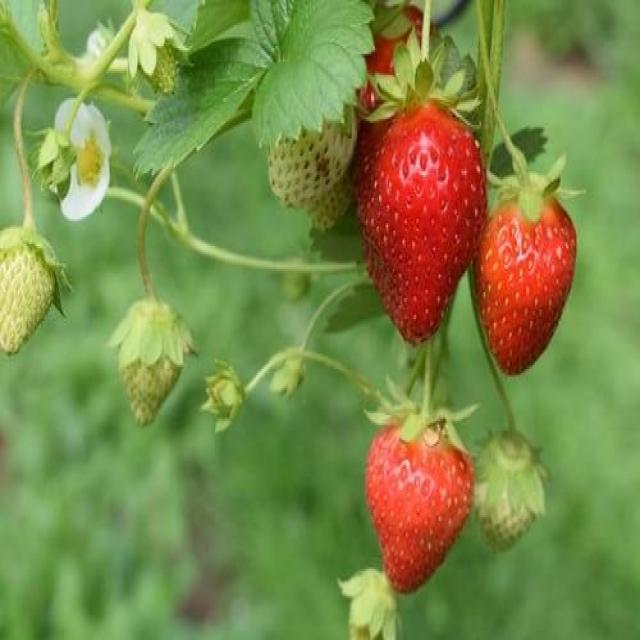immature: (119, 302, 183, 427), (474, 438, 543, 550), (1, 229, 56, 355)
mature: (354, 102, 485, 343), (473, 196, 577, 376), (366, 424, 474, 590)
